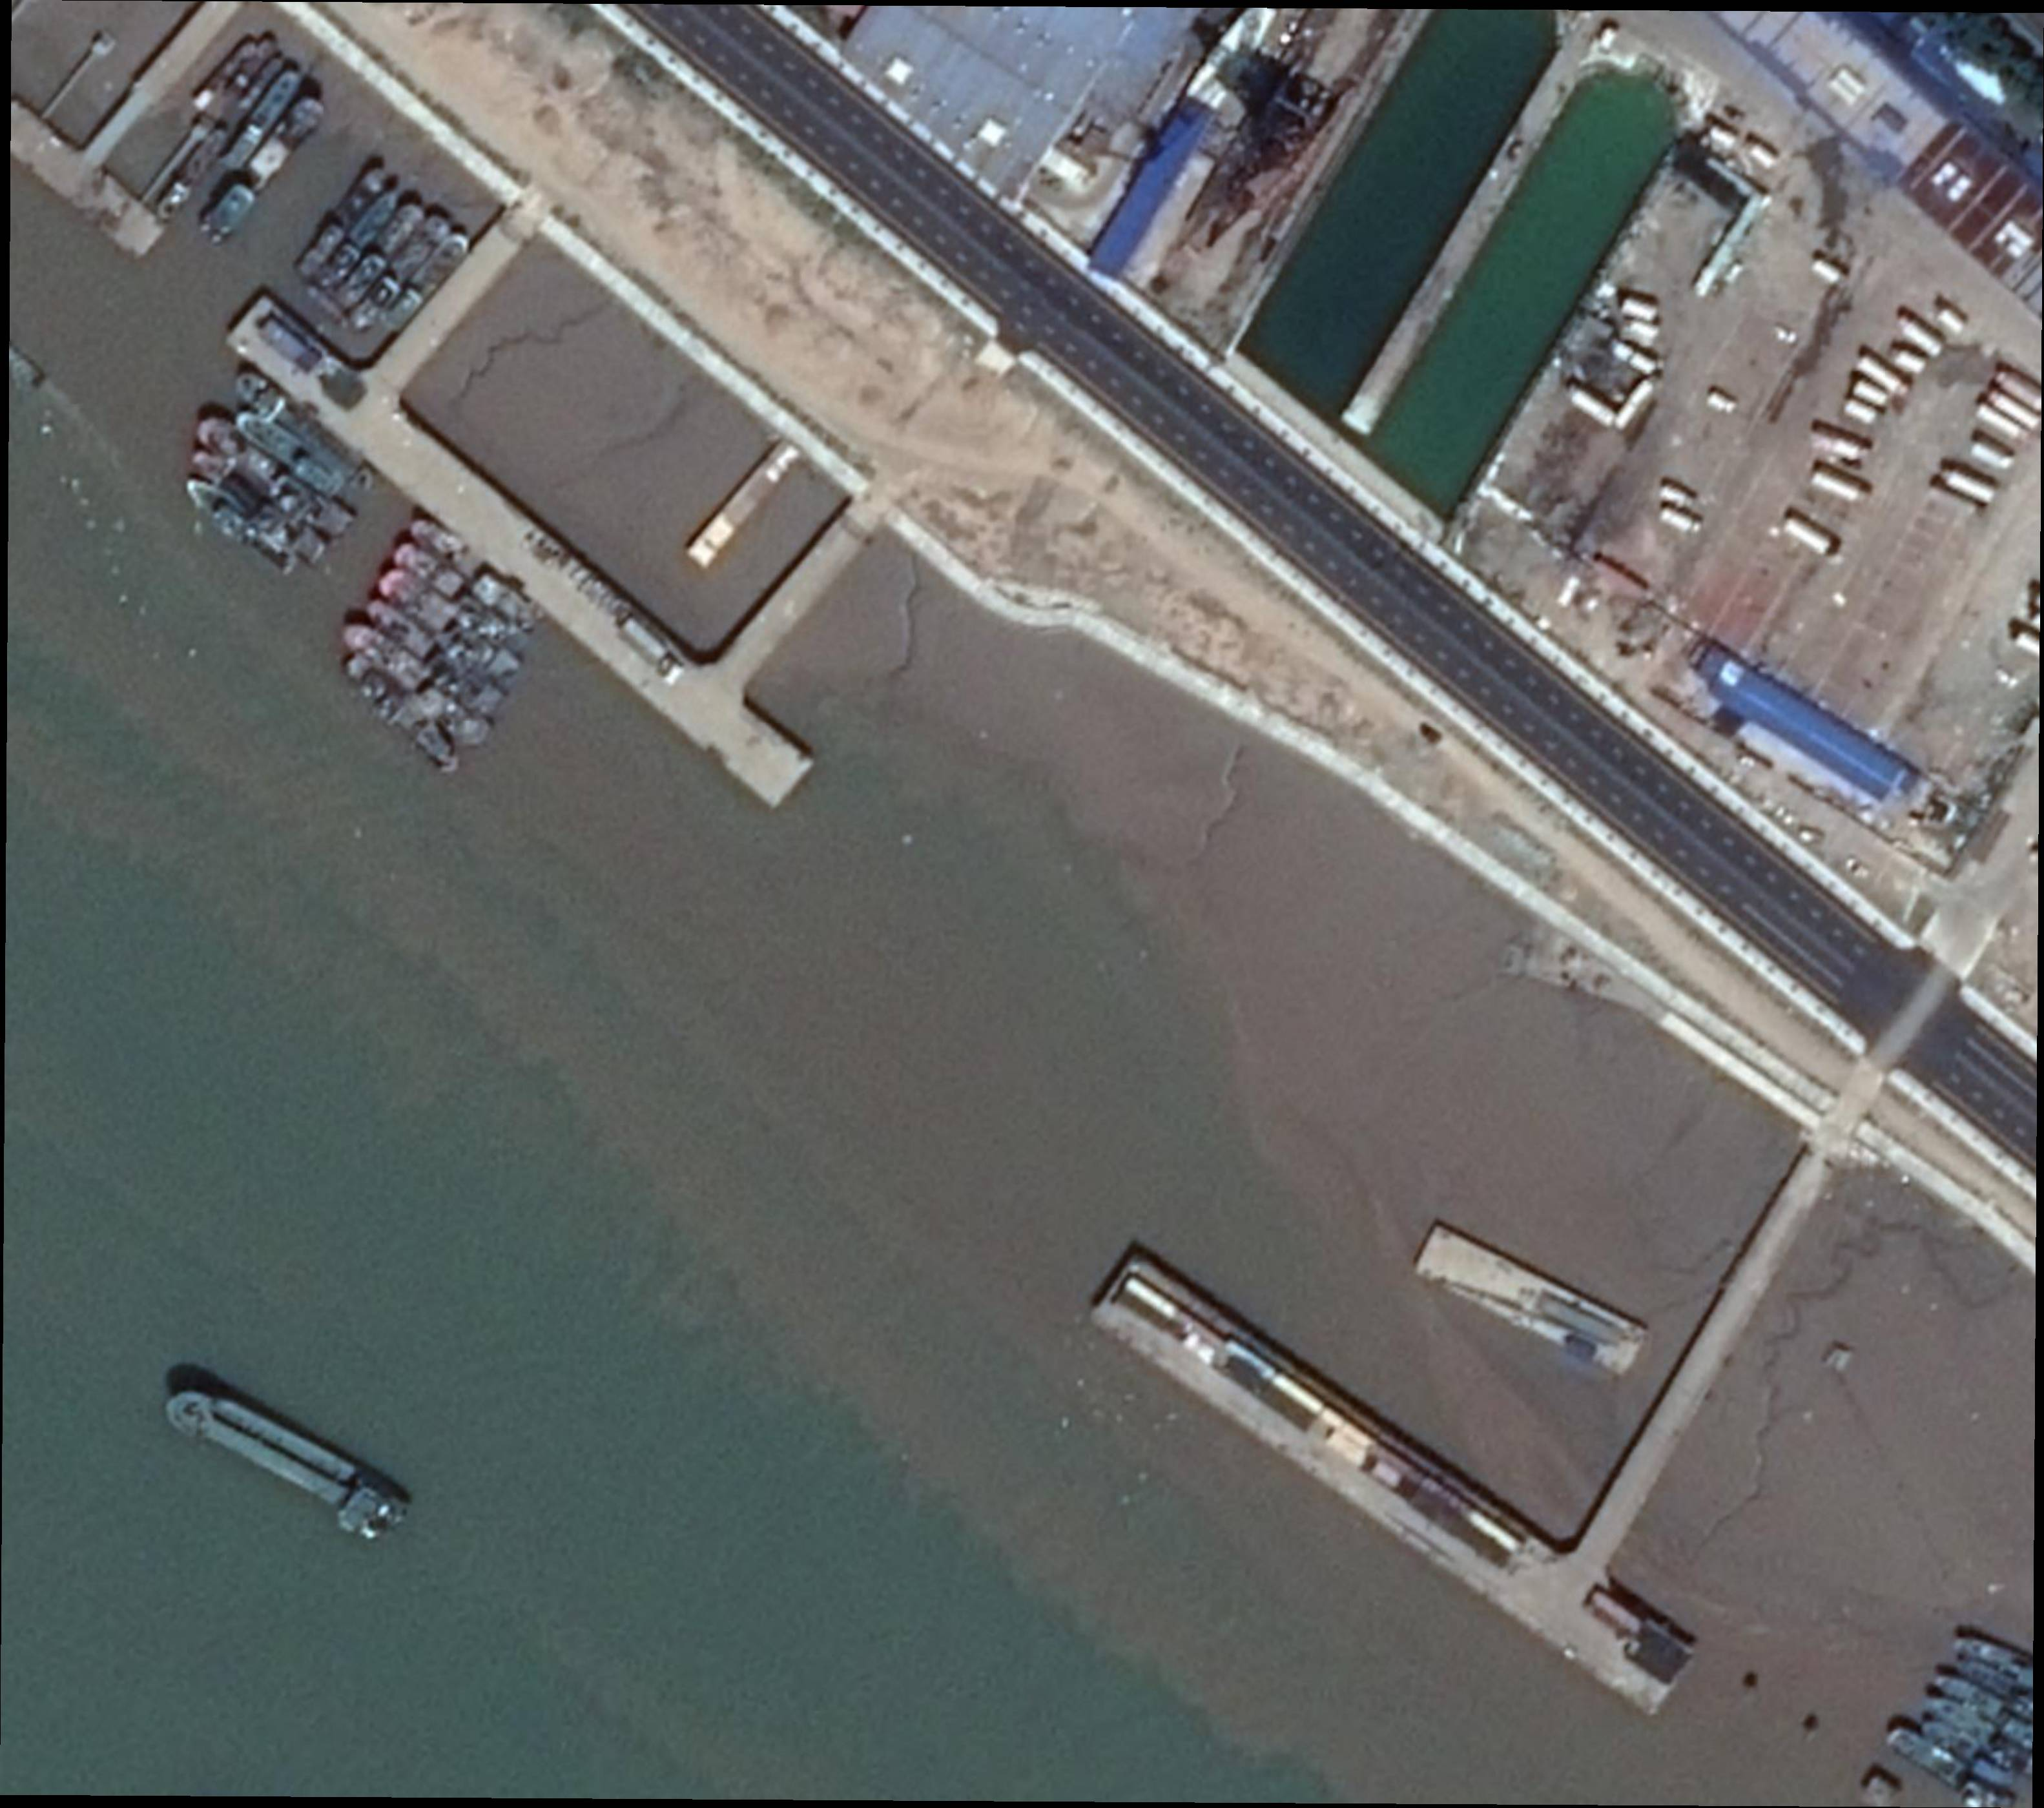harbor: (222, 122, 953, 810), (1527, 1147, 1840, 1654)
ship: (159, 1375, 412, 1543), (1414, 1225, 1646, 1377), (335, 614, 494, 754), (192, 410, 354, 544), (194, 92, 326, 248), (230, 365, 381, 497), (370, 564, 525, 689), (361, 595, 511, 721), (187, 445, 332, 571), (403, 510, 545, 632), (391, 539, 529, 653), (342, 656, 466, 777), (346, 211, 452, 335), (180, 473, 298, 581), (232, 401, 346, 503), (330, 197, 428, 314), (293, 162, 389, 281), (381, 229, 473, 335), (312, 187, 400, 295), (222, 68, 300, 171), (155, 127, 230, 222)
